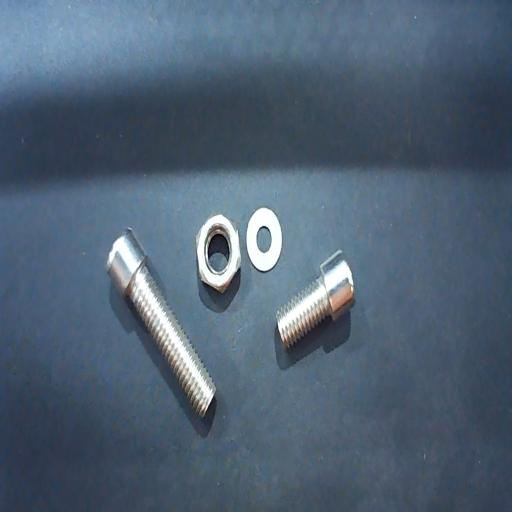nut: (195, 213, 241, 294)
screw: (106, 227, 216, 419), (276, 248, 356, 350)
washer: (246, 207, 282, 272)
